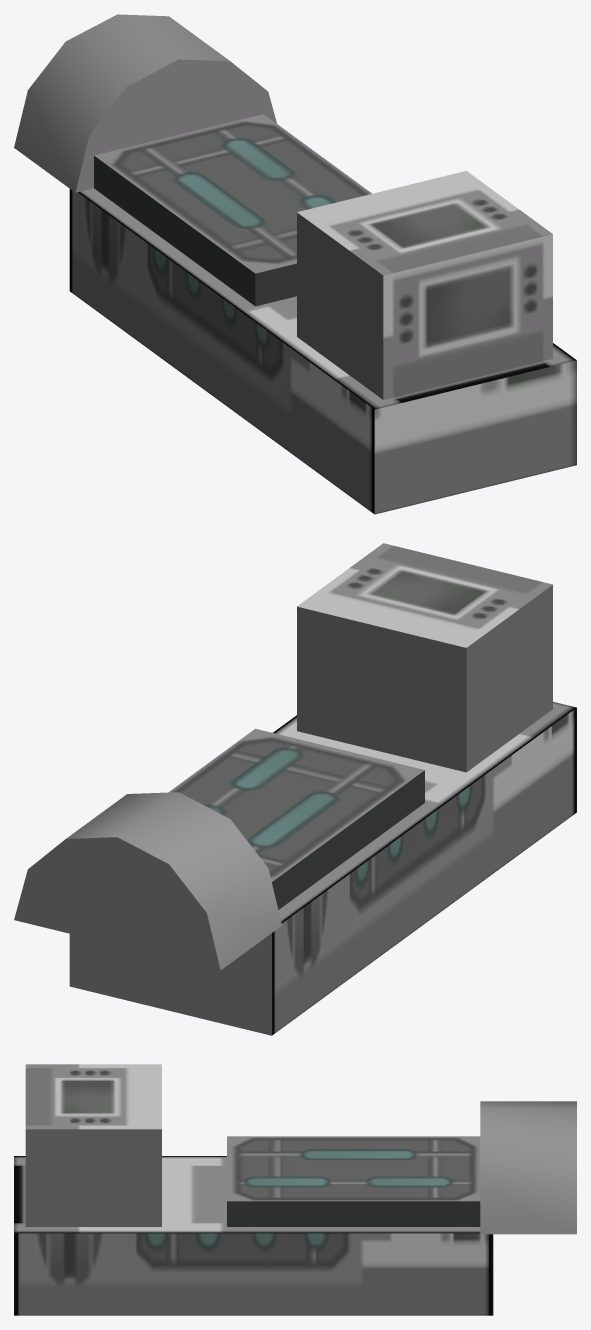
The model's file is Building_NeuralSupercharger.obj.
3 renders of one model, top to bottom at view 1: azimuth 30°, elevation 25°; view 2: azimuth 150°, elevation 25°; view 3: azimuth 270°, elevation 25°, orthographic. The views are drawn at different scales.
Parts seen in each view (by area): view 1: Body; view 2: Body; view 3: Body.
Part boxes in pixels (<box>): Body: <box>14,14,576,514</box>; Body: <box>14,543,576,1035</box>; Body: <box>14,1064,576,1315</box>.
Bounding box in the file's own units: 0.66 × 0.7 × 1.98.
1 material, 1 textured.
